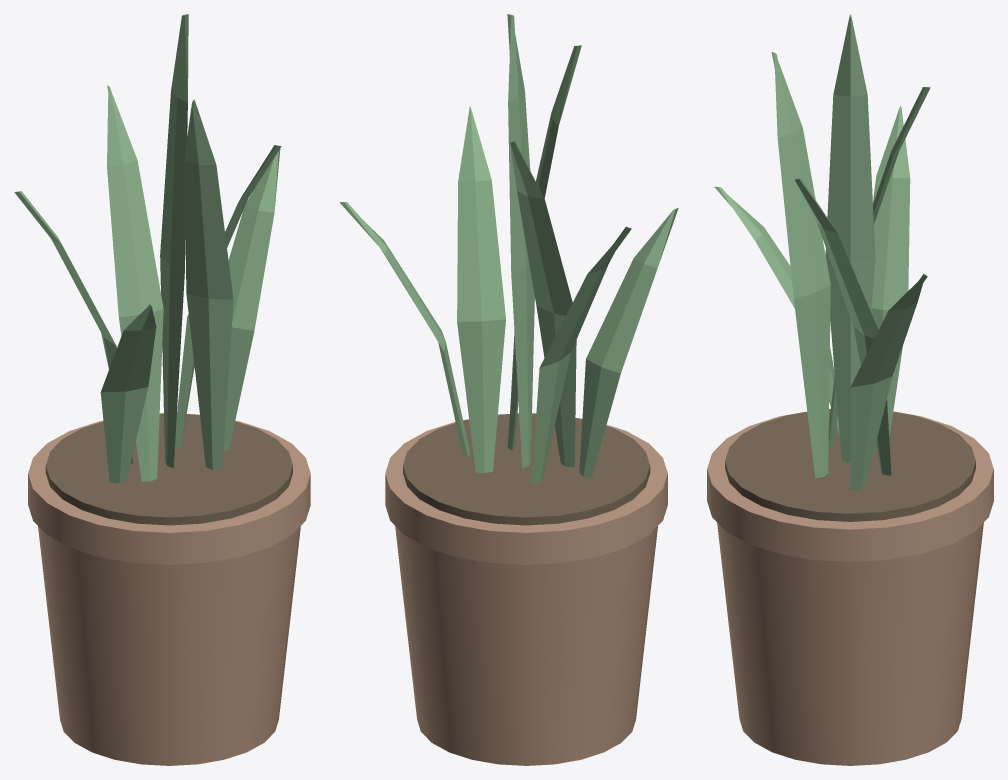
File: plant.glb
3 views of the same model, side by side, from view 1: azimuth 30°, elevation 25°; view 2: azimuth 150°, elevation 25°; view 3: azimuth 270°, elevation 25° (orthographic).
Parts seen in each view (by area): view 1: furn_plant; view 2: furn_plant; view 3: furn_plant.
Part boxes in pixels (box(x1,y1,x2,y2)): furn_plant: box(14, 14, 310, 765); furn_plant: box(340, 14, 678, 765); furn_plant: box(707, 14, 993, 765).
Size of the model in its own units: 0.4568 by 1.1 by 0.4.
